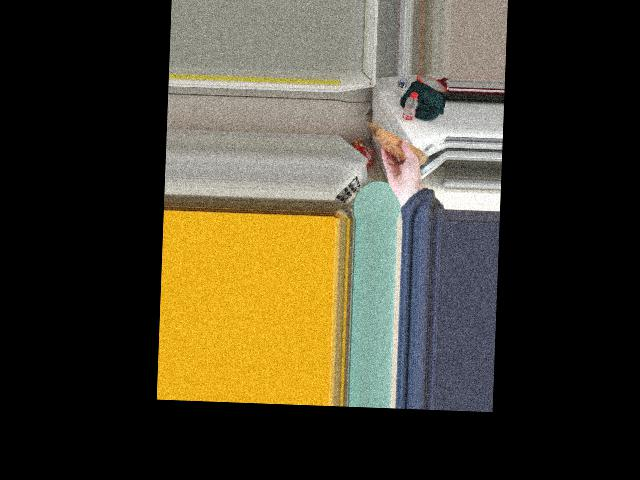sweet_potato: (379, 127, 414, 161)
